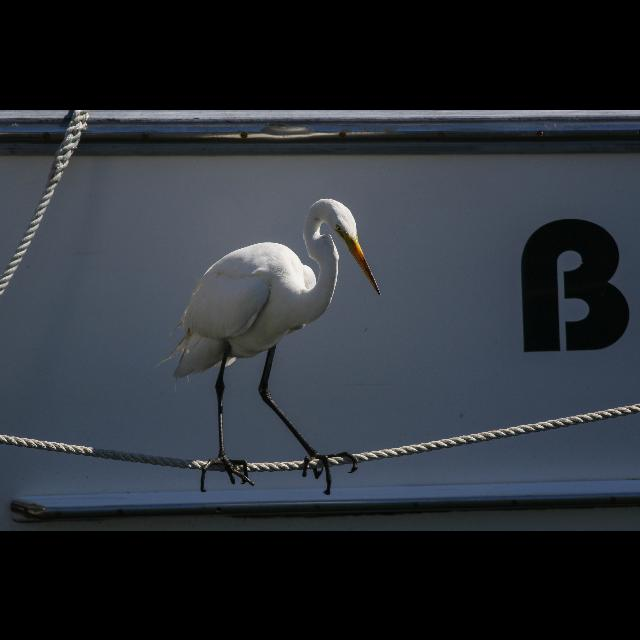egret: (165, 198, 379, 468)
